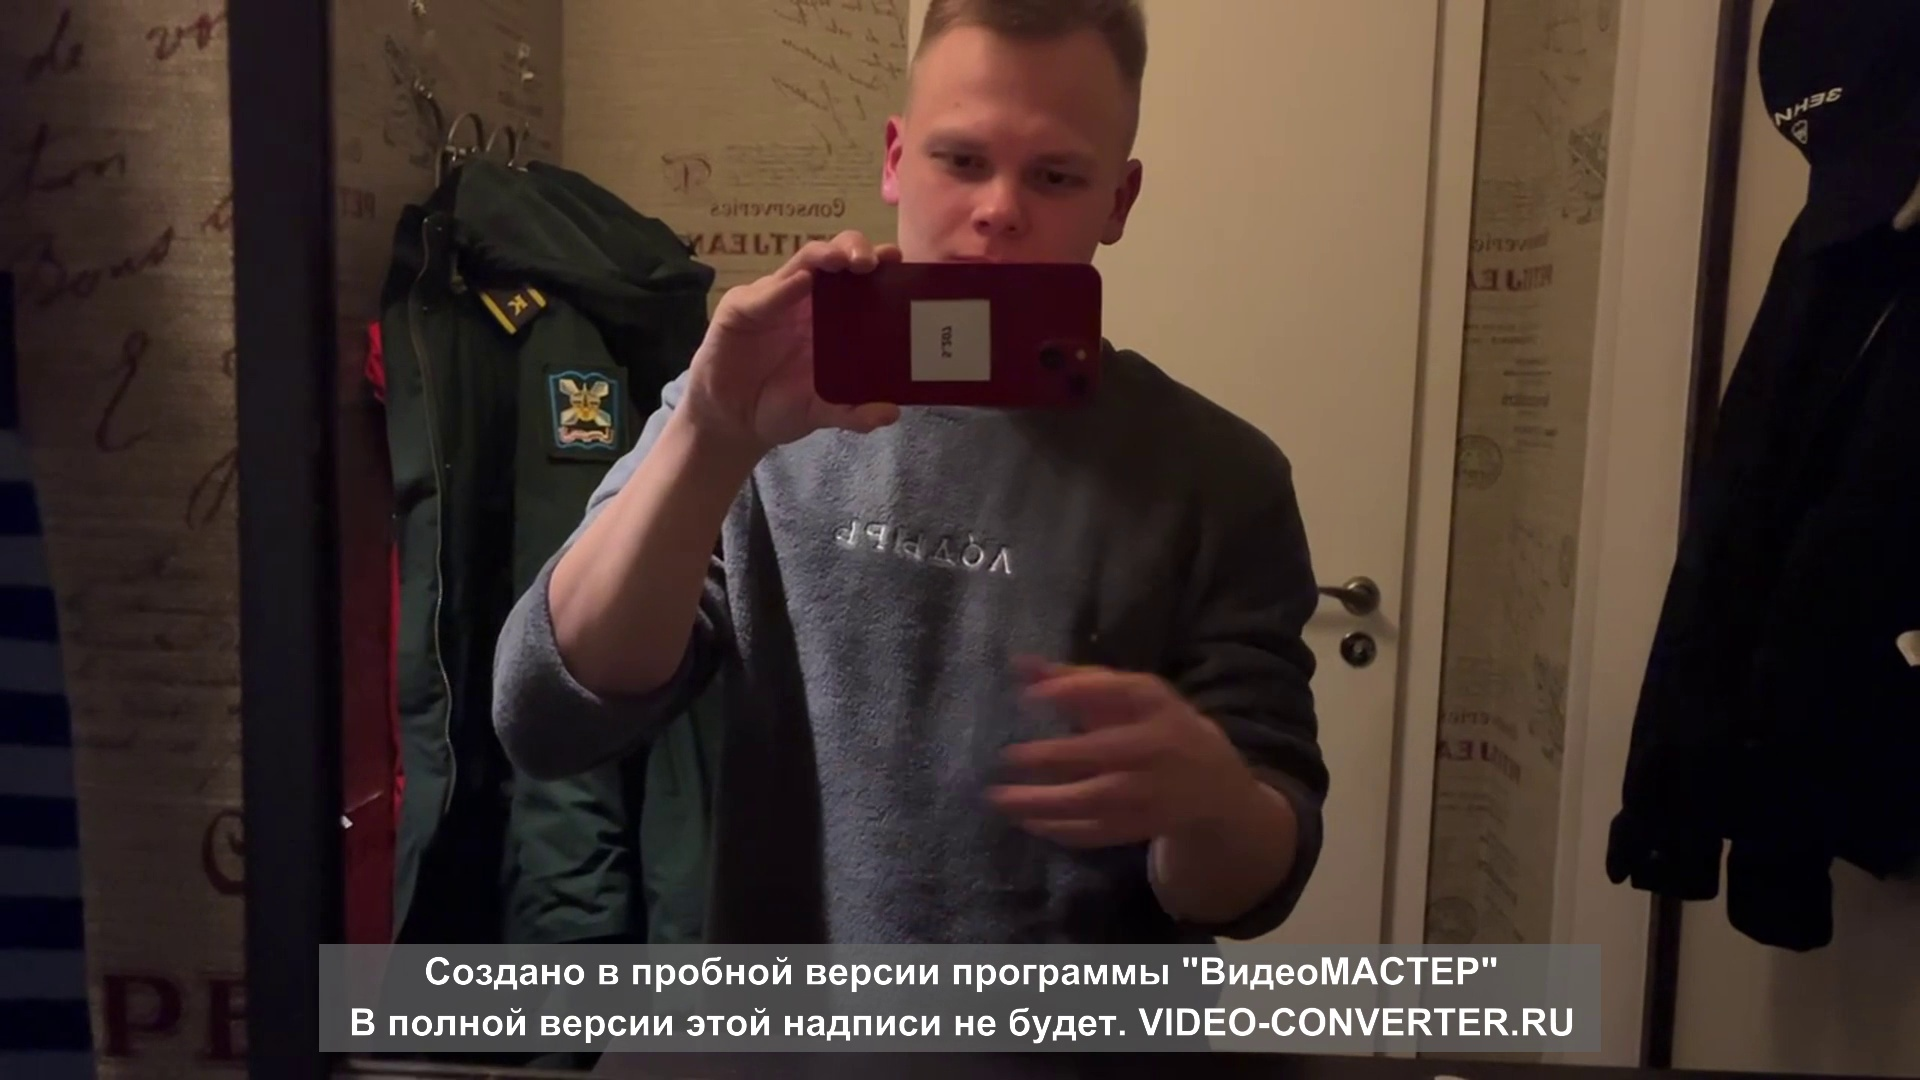Кисть: (990, 653, 1216, 841)
